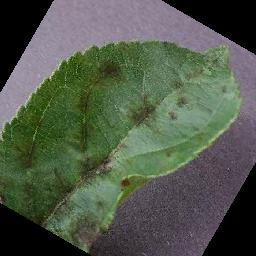apple healthy: (0, 37, 243, 254)
